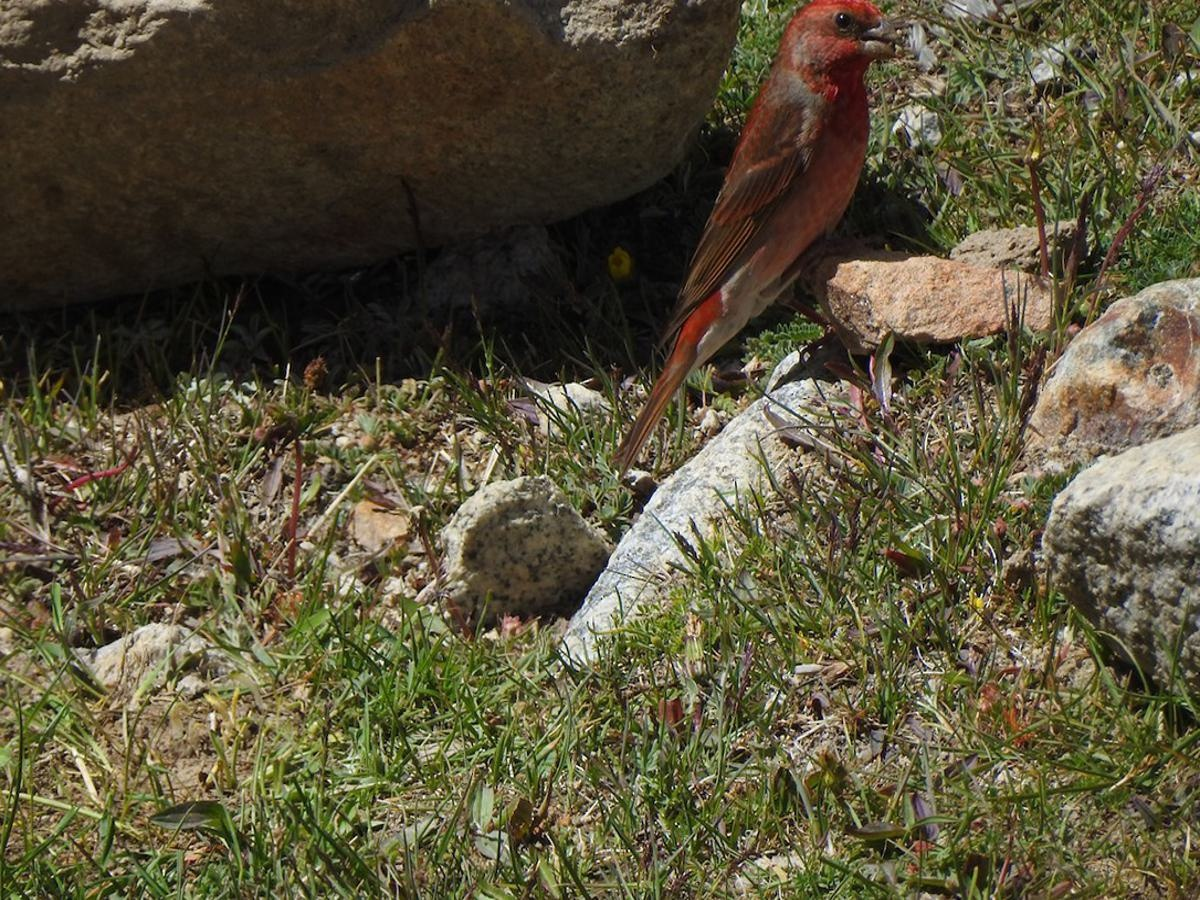rosefinch: (627, 1, 960, 475)
